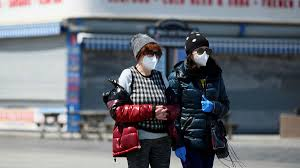with-mask: (125, 32, 164, 74), (180, 31, 212, 69)
